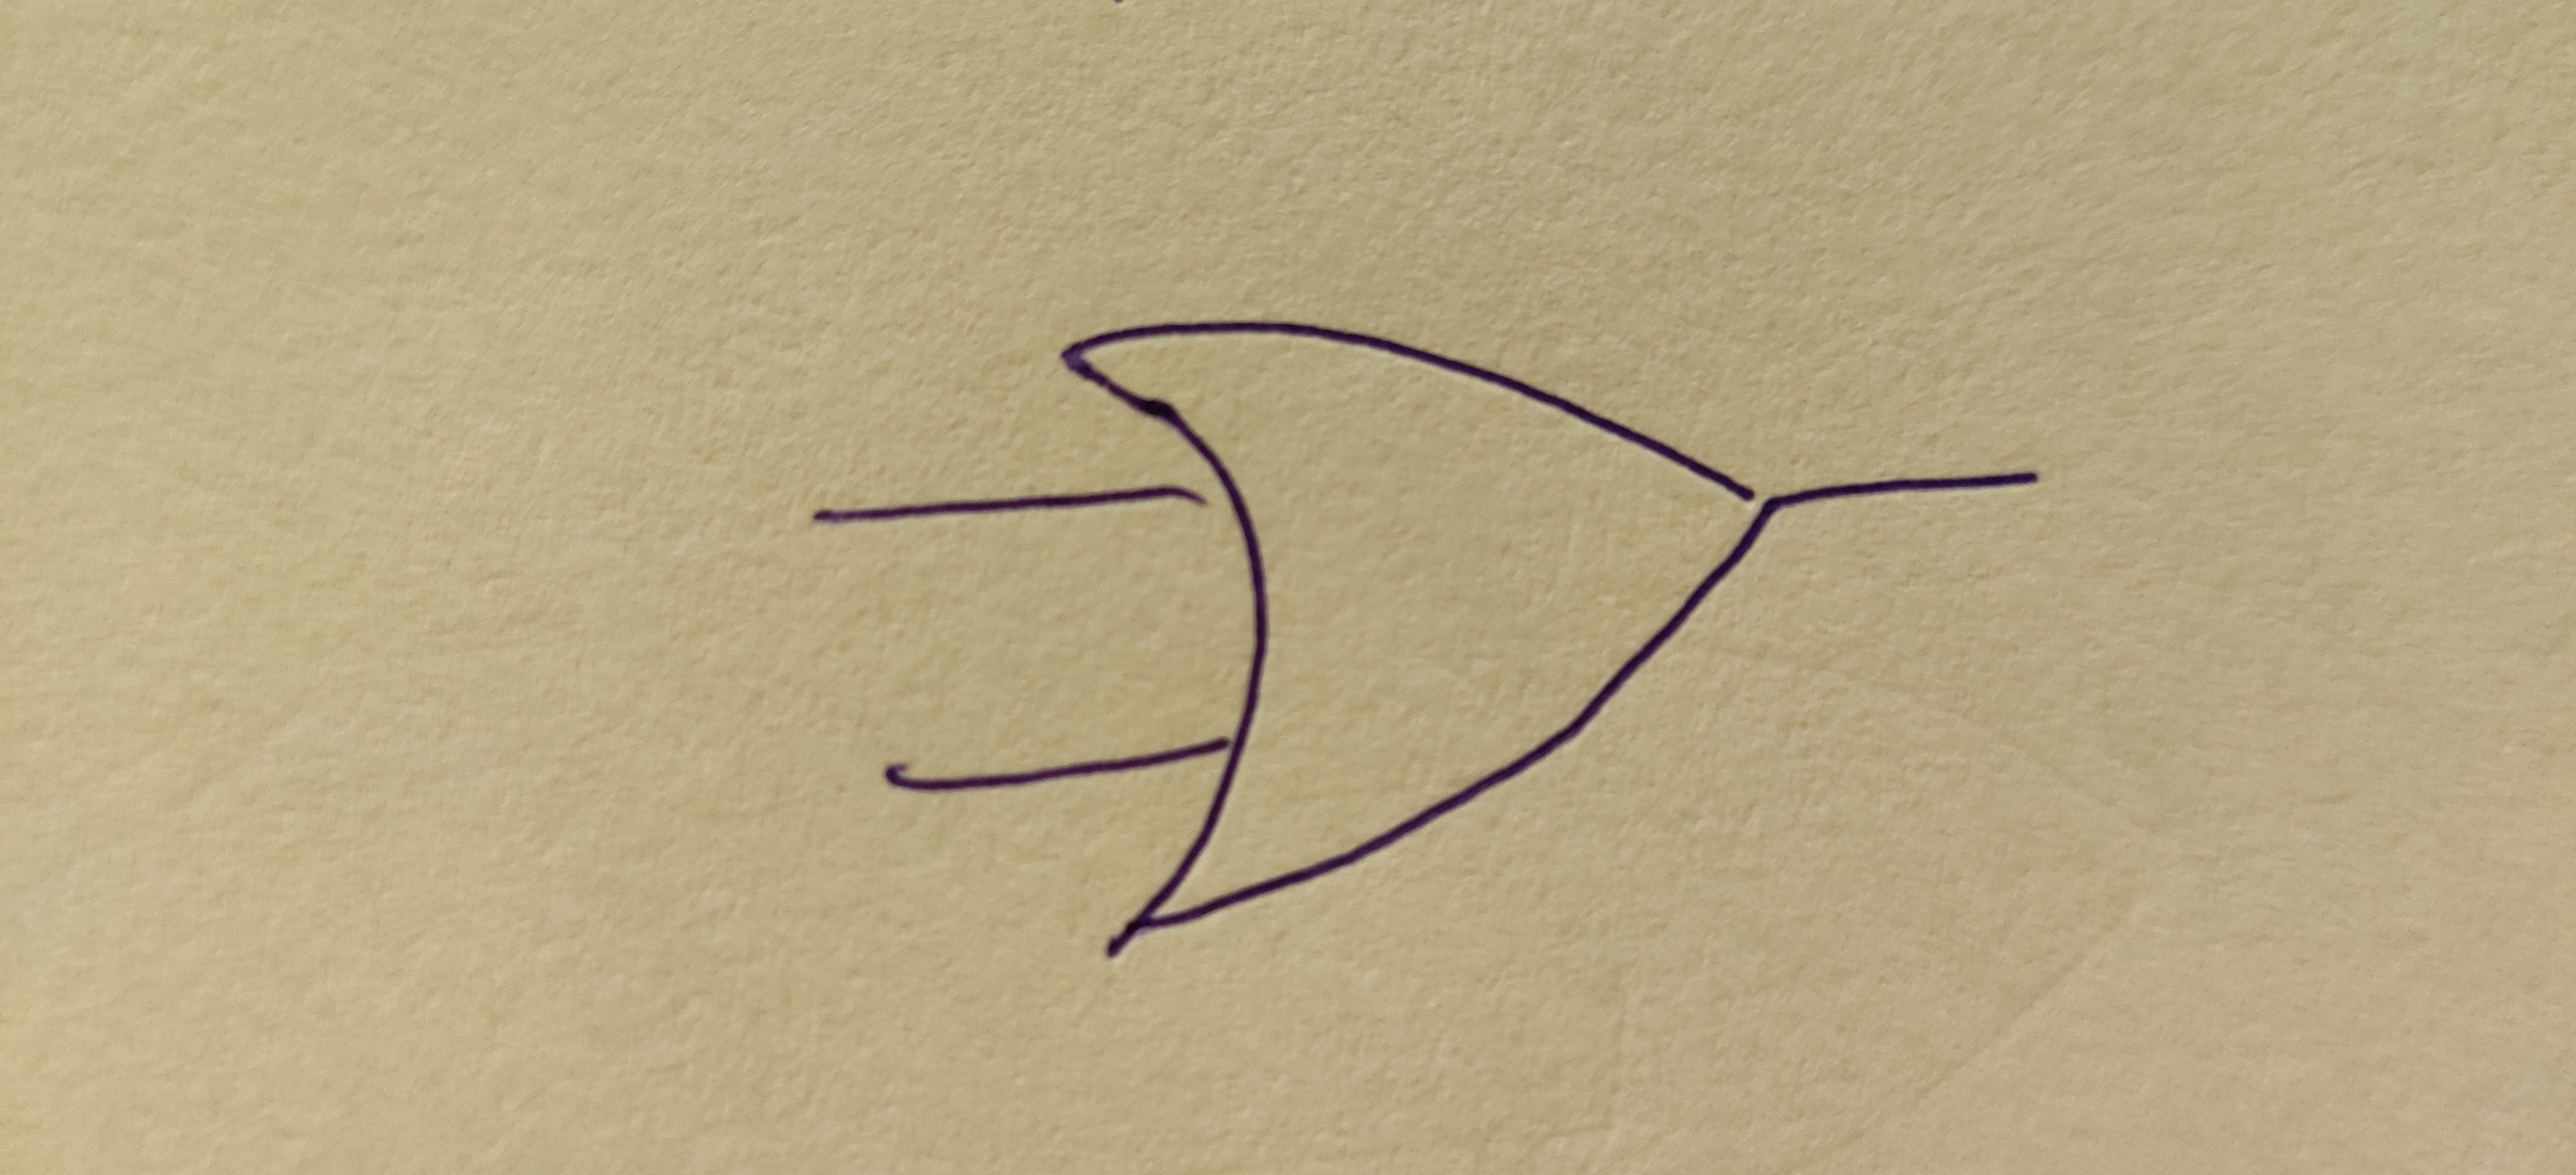or: (1065, 319, 1776, 930)
